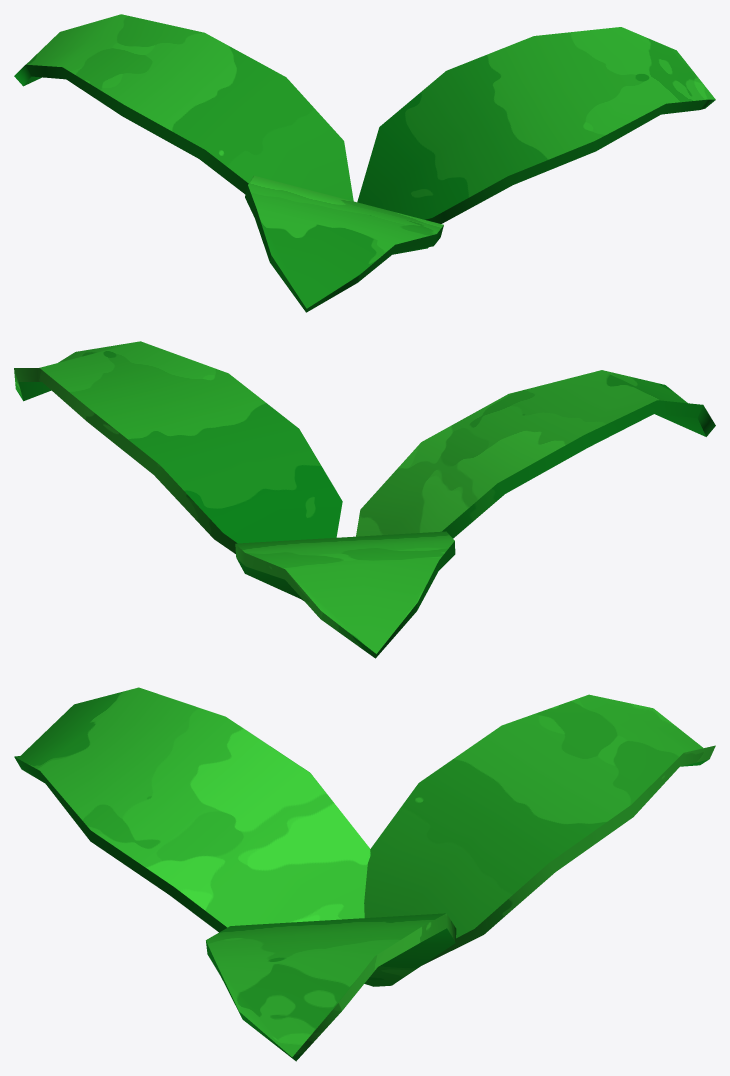
Rendered from yeşilot3.fbx.
The picture shows the model from 3 angles, top to bottom: view 1: azimuth 30°, elevation 25°; view 2: azimuth 150°, elevation 25°; view 3: azimuth 270°, elevation 25°; orthographic projection. The views are drawn at different scales.
Parts seen in each view (by area): view 1: 3lüyaprak.006; view 2: 3lüyaprak.006; view 3: 3lüyaprak.006.
Part boxes in pixels (x1,y1,x2,y2): 3lüyaprak.006: (14, 14, 715, 312); 3lüyaprak.006: (14, 341, 715, 658); 3lüyaprak.006: (14, 687, 715, 1061).
Bounding box in the file's own units: 5.54 × 1.64 × 5.48.
1 material, 1 textured.
